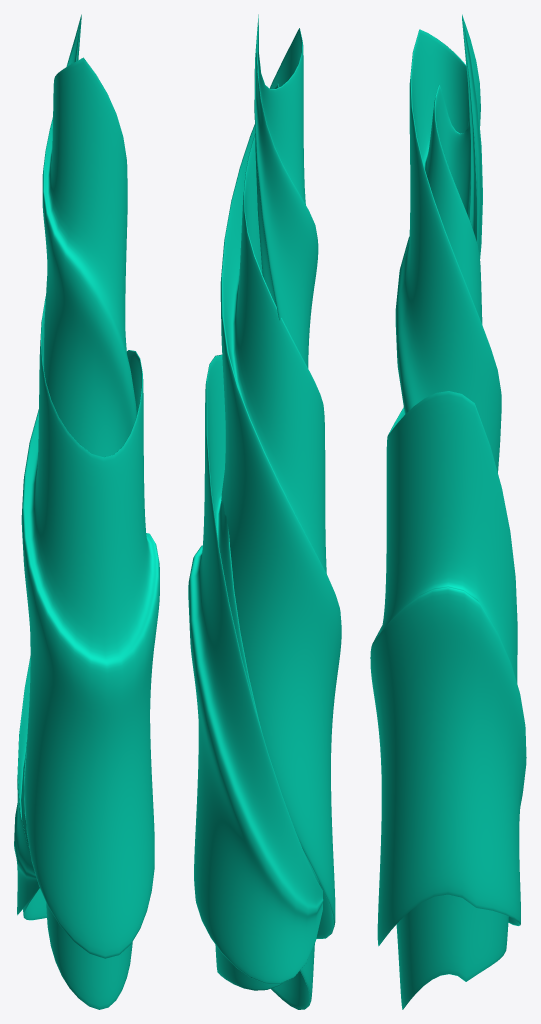
File: Cream1_Y.fbx
3 renders of one model, left to right at view 1: azimuth 30°, elevation 25°; view 2: azimuth 150°, elevation 25°; view 3: azimuth 270°, elevation 25°, orthographic. The views are drawn at different scales.
Parts seen in each view (by area): view 1: sikilan_krema; view 2: sikilan_krema; view 3: sikilan_krema.
Part boxes in pixels (box(x1,y1,x2,y2)): sikilan_krema: box(14, 14, 159, 1009); sikilan_krema: box(188, 14, 341, 1009); sikilan_krema: box(370, 14, 526, 1009).
Size of the model in its own units: 0.0311 by 0.2334 by 0.0331.
